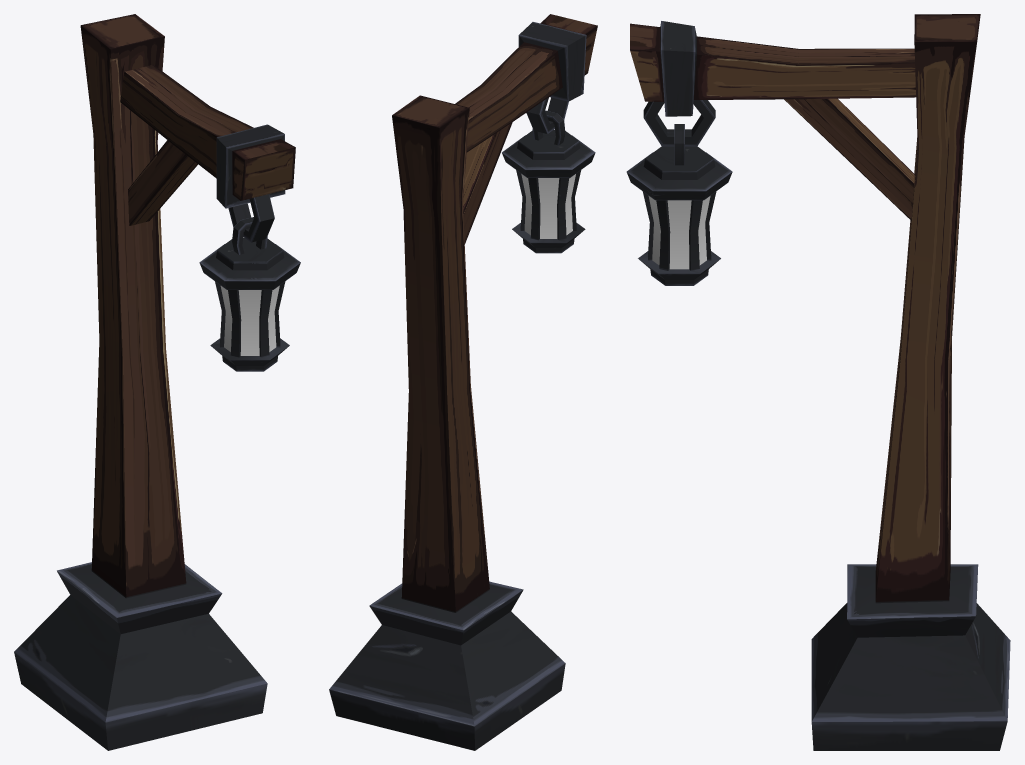
Rendered from SM_PROP_lamp_dungeon_01.fbx.
3 views of the same model, side by side, from view 1: azimuth 30°, elevation 25°; view 2: azimuth 150°, elevation 25°; view 3: azimuth 270°, elevation 25° (orthographic). The views are drawn at different scales.
Parts seen in each view (by area): view 1: SM_PROP_lamp_dungeon_01; view 2: SM_PROP_lamp_dungeon_01; view 3: SM_PROP_lamp_dungeon_01.
Part boxes in pixels (x1=…): SM_PROP_lamp_dungeon_01: x1=14, y1=14, x2=300, y2=750; SM_PROP_lamp_dungeon_01: x1=329, y1=14, x2=597, y2=750; SM_PROP_lamp_dungeon_01: x1=626, y1=14, x2=1010, y2=750.
Bounding box in the file's own units: 66.4 × 256 × 130.
